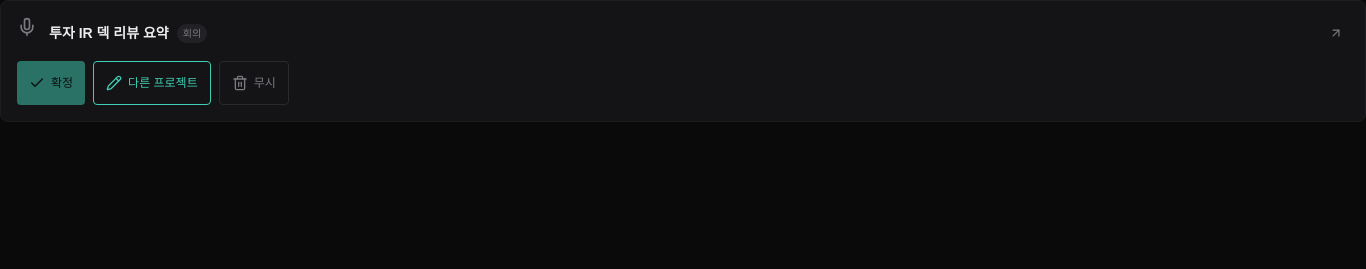
Test: SmartInboxItemCard AI 추천 라벨 › 프로젝트 목록 조회가 실패하면 확정은 '불러올 수 없음' 으로 막히고 picker 는 실패를 말한다
Expected: the button "확정" is disabled, [17, 61, 85, 105]
Click the button "다른 프로젝트".
click(152, 83)  # box [93, 61, 211, 105]
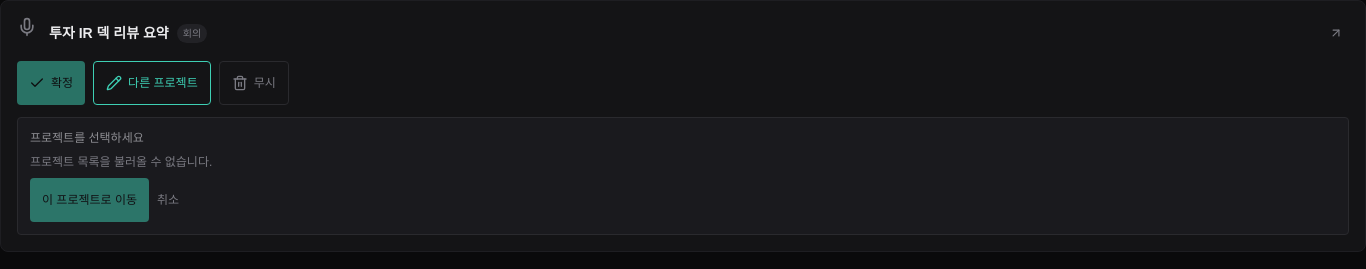
Expected: the text "프로젝트 목록을 불러올 수 없습니다." is shown, [30, 155, 212, 169]
